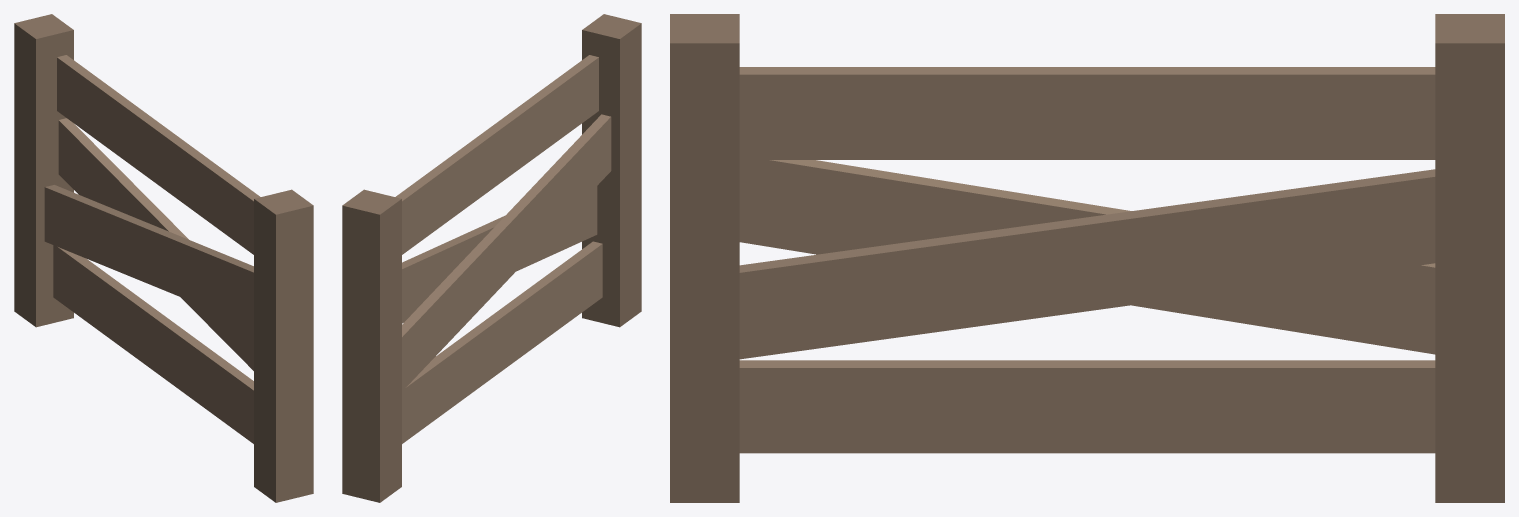
File: Fence Type 2.fbx
3 views of the same model, side by side, from view 1: azimuth 30°, elevation 25°; view 2: azimuth 150°, elevation 25°; view 3: azimuth 270°, elevation 25° (orthographic). The views are drawn at different scales.
Parts seen in each view (by area): view 1: FencePole, FencePole1, FenceBoard3, FenceBoard2, FenceBoard, FenceBoard4; view 2: FencePole1, FenceBoard3, FencePole, FenceBoard2, FenceBoard, FenceBoard4; view 3: FenceBoard4, FenceBoard2, FenceBoard, FenceBoard3, FencePole, FencePole1.
Boxes of the visible parts, <box> form: FencePole: <box>254,189,313,502</box>; FencePole1: <box>14,14,73,327</box>; FenceBoard3: <box>44,185,253,326</box>; FenceBoard2: <box>53,245,253,443</box>; FenceBoard: <box>57,55,260,254</box>; FenceBoard4: <box>58,118,253,370</box>; FencePole1: <box>342,189,401,502</box>; FenceBoard3: <box>402,114,611,391</box>; FencePole: <box>582,14,641,327</box>; FenceBoard2: <box>402,241,602,443</box>; FenceBoard: <box>395,55,598,254</box>; FenceBoard4: <box>402,186,597,323</box>; FenceBoard4: <box>739,169,1435,359</box>; FenceBoard2: <box>739,360,1435,453</box>; FenceBoard: <box>739,67,1435,159</box>; FenceBoard3: <box>739,160,1435,354</box>; FencePole: <box>670,14,739,502</box>; FencePole1: <box>1435,14,1504,502</box>.
Size of the model in its own units: 0.5 by 3.64 by 6.
